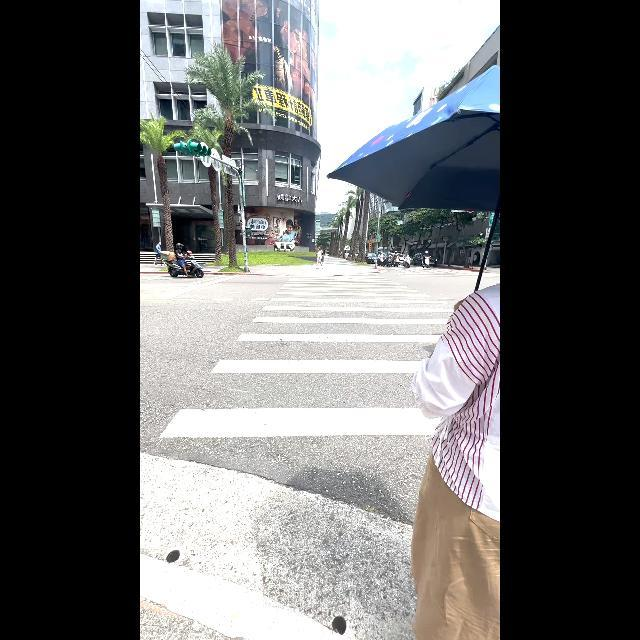sidewalk: (140, 271, 500, 633)
